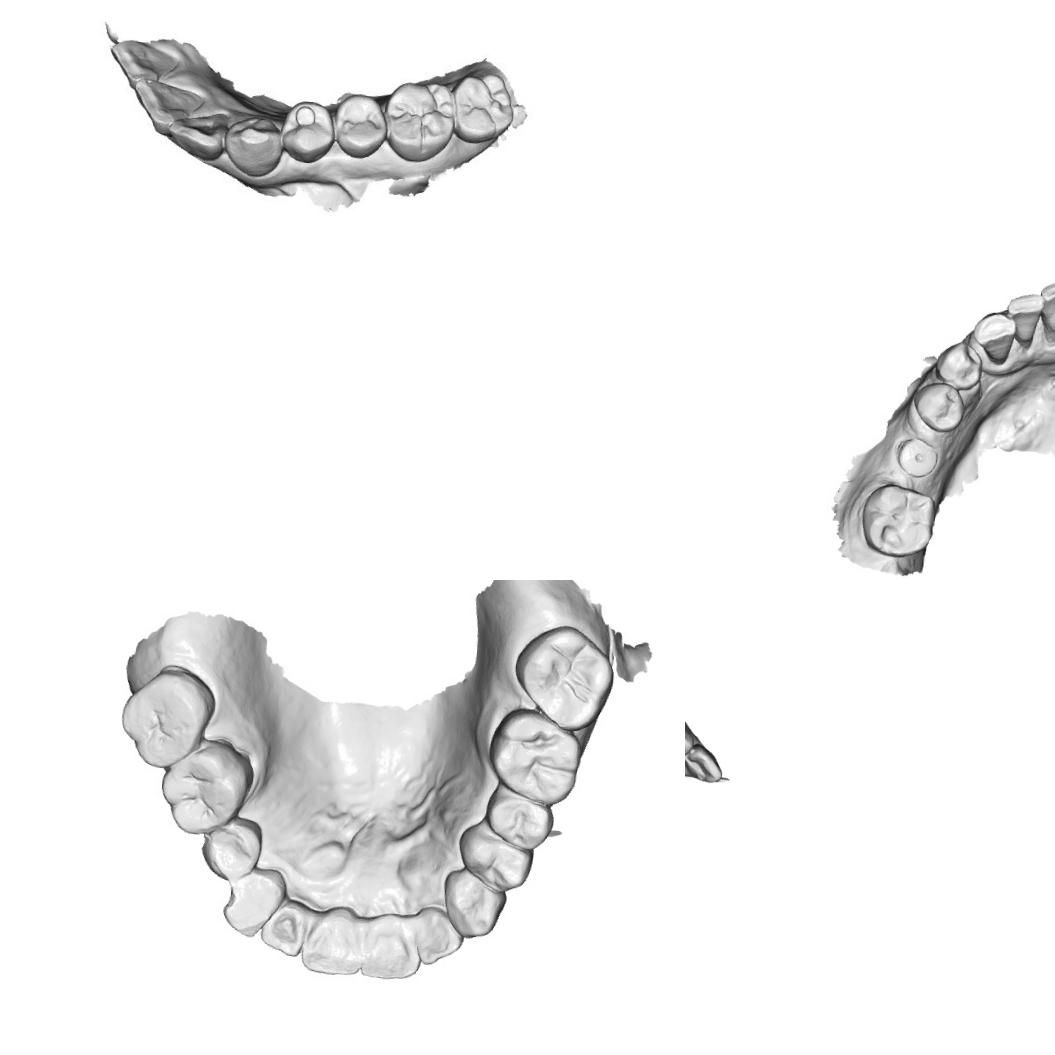canine: (438, 864, 508, 941), (219, 868, 285, 941), (223, 113, 280, 176), (970, 308, 1018, 366), (685, 711, 698, 761)
implant: (894, 436, 940, 480)
incisor: (296, 903, 366, 980), (358, 906, 421, 984), (106, 30, 178, 86), (137, 74, 205, 132), (412, 904, 466, 970), (258, 898, 308, 958), (170, 107, 229, 156), (1002, 289, 1046, 352), (685, 738, 724, 785), (1034, 276, 1055, 343)
molar: (508, 618, 618, 735), (115, 664, 216, 774), (483, 704, 585, 808), (153, 735, 254, 840), (380, 77, 458, 164), (857, 479, 938, 561), (451, 69, 517, 146)
premolar: (453, 818, 535, 896), (480, 788, 554, 856), (197, 812, 266, 883), (284, 98, 340, 164), (334, 92, 388, 152), (909, 379, 966, 434), (932, 338, 984, 392)
